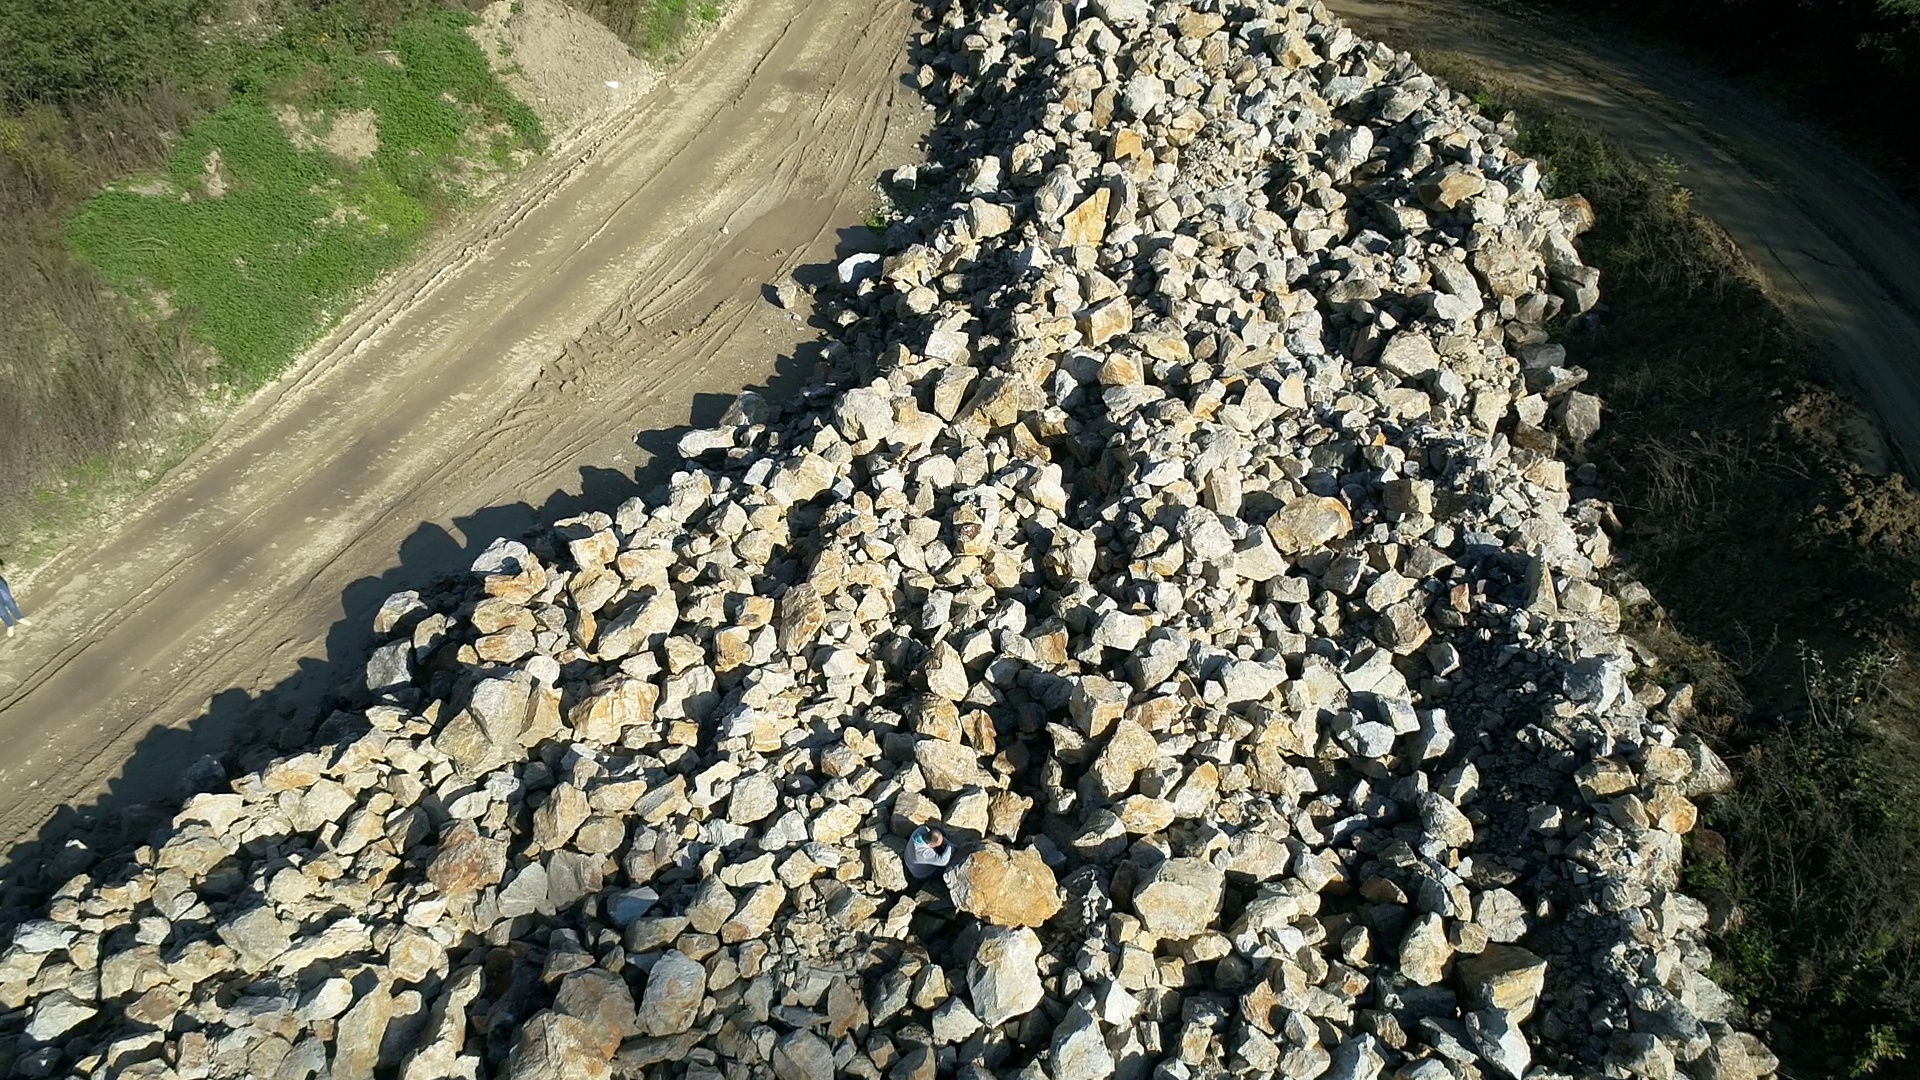not_defined: (1, 552, 33, 639), (1071, 1, 1092, 27)
person: (903, 825, 957, 881)
